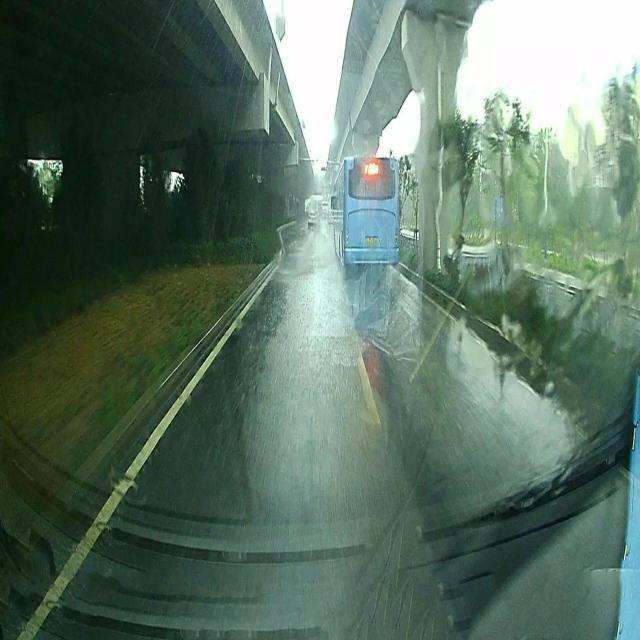car: (304, 207, 320, 229)
